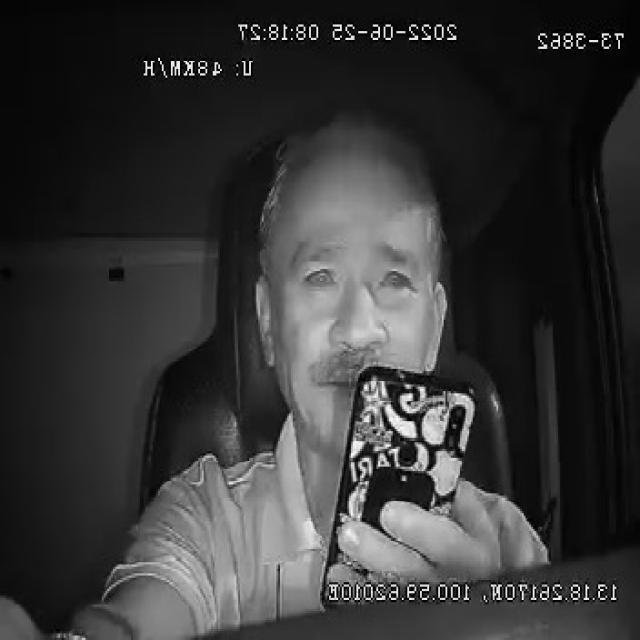phone: (322, 364, 476, 581)
